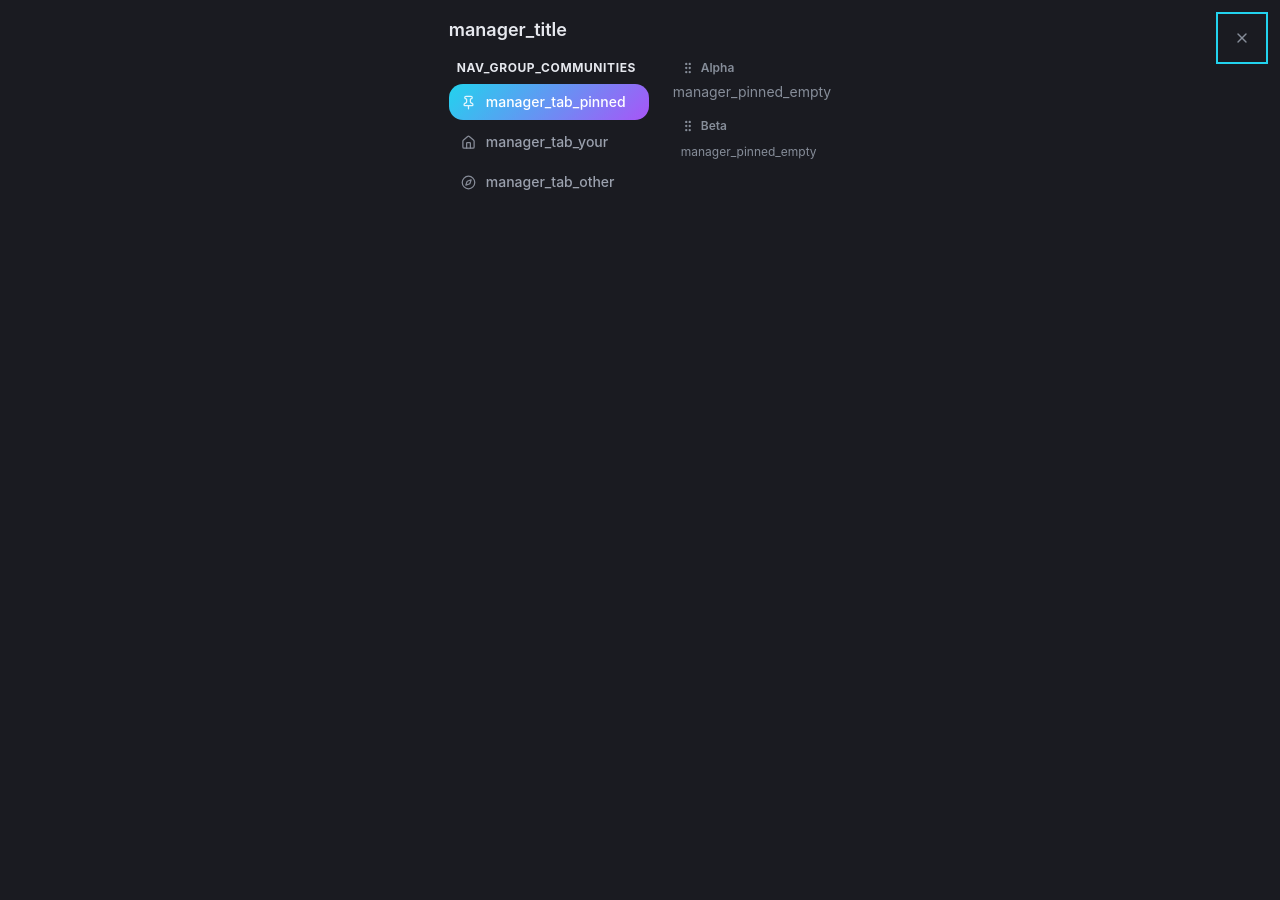
Test: CommunityManagerModal desktop variant › defaults the browse selector to the active identity's own communities
Click the button with test id "manager-tab-other".
click(549, 182)  # box [449,164,649,200]
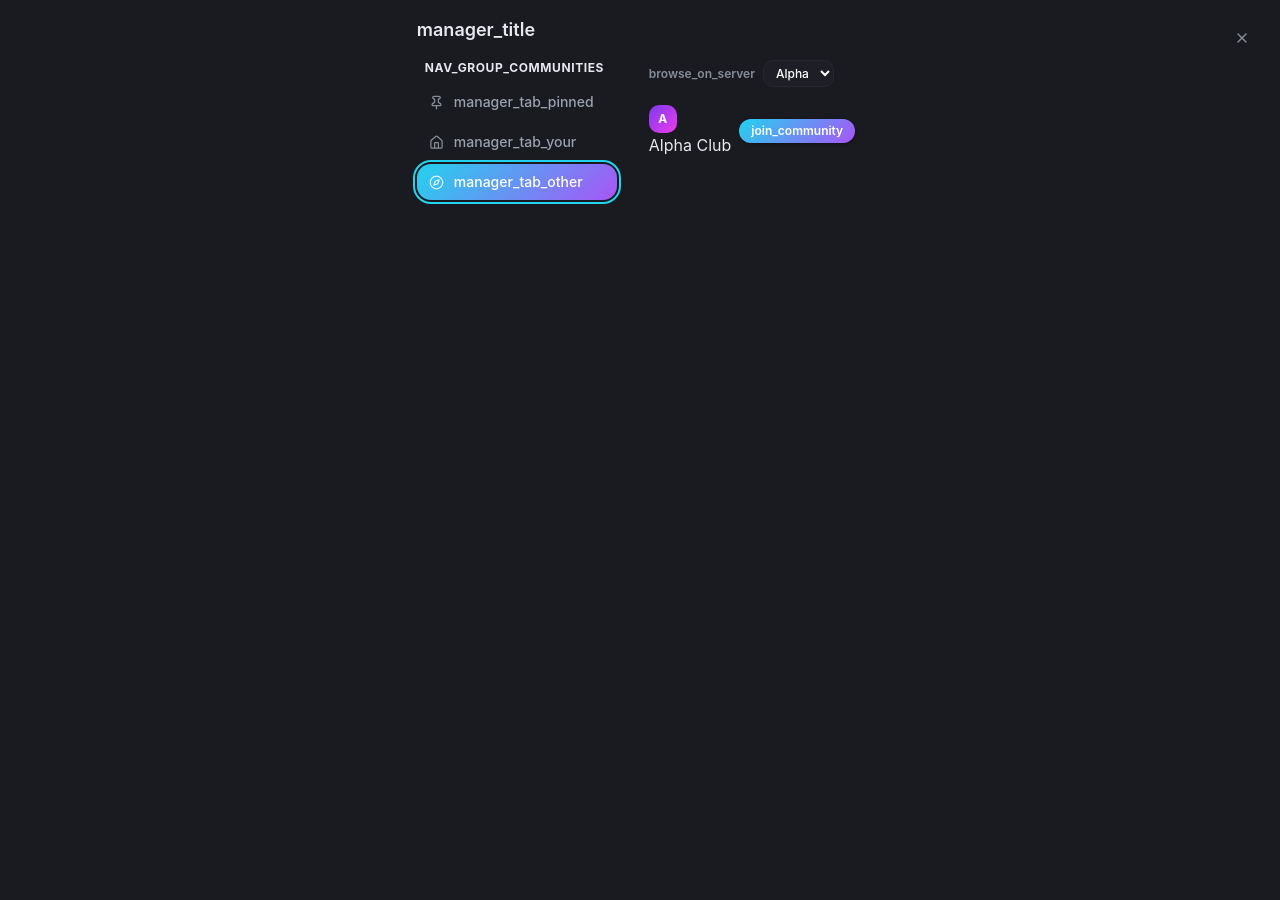
Now the dropdown with test id "manager-browse-select" shows "Alpha", box [763,60,834,87]
Now the text "Alpha Club" is shown, box [649,135,731,155]
